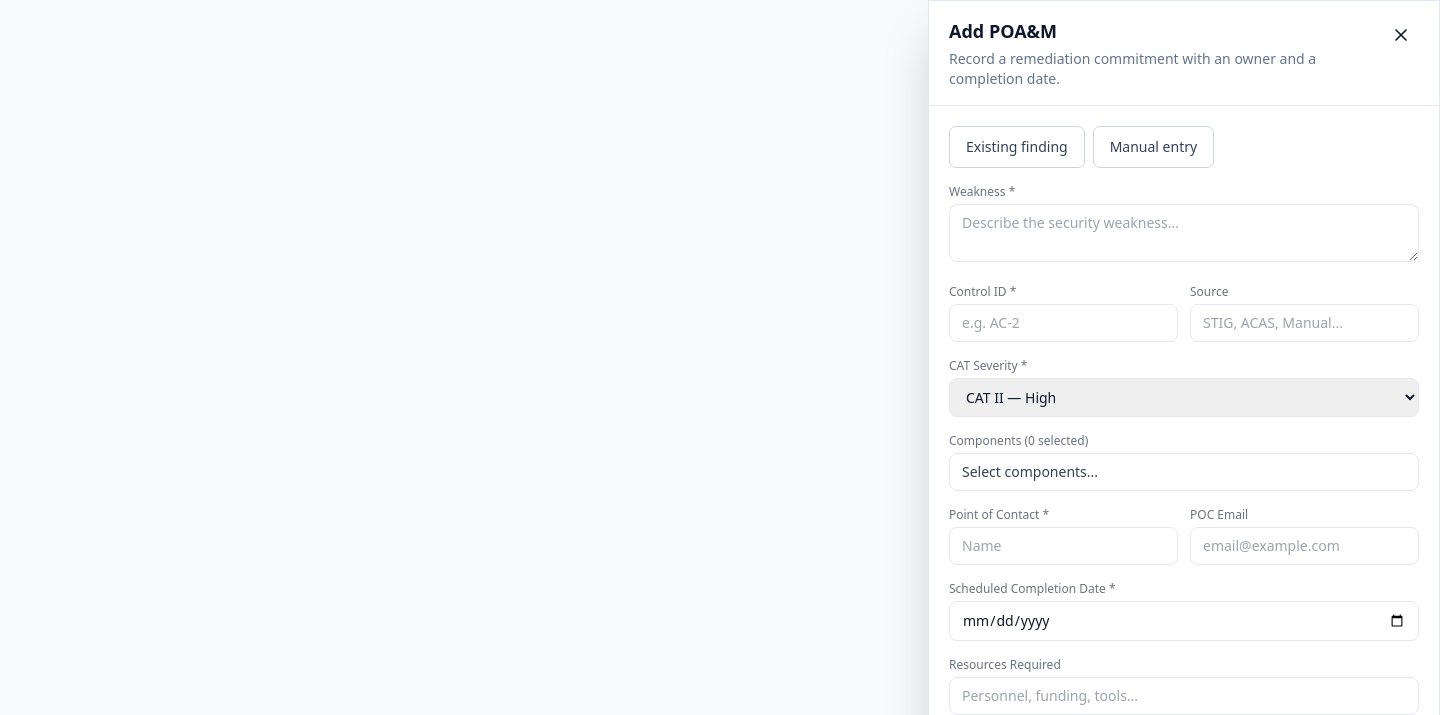
Manual POA&M form › does not mistake an indirect task relationship for a duplicate formal source record
Click the button "Existing finding" at {"x": 1017, "y": 147}, box [949,126,1085,168]
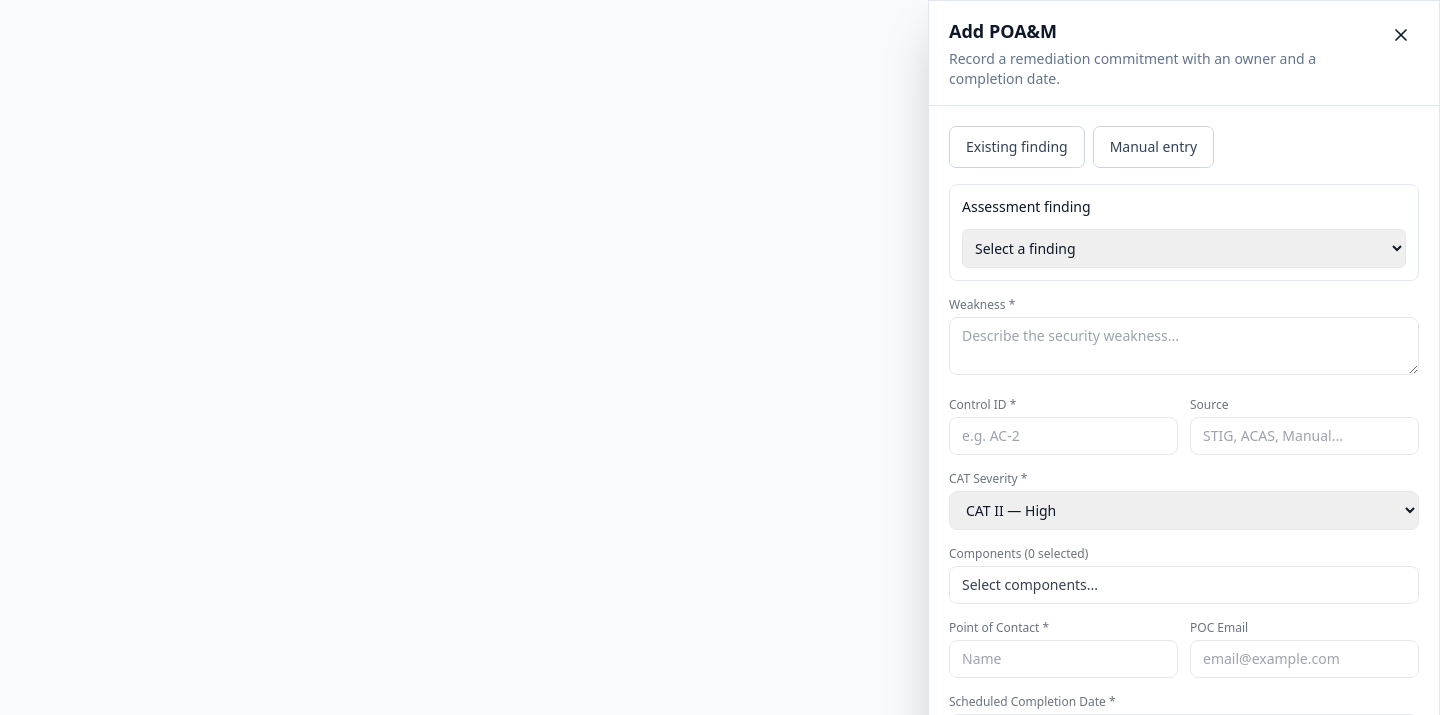
Select "AC-2 · Access review" in the dropdown labelled "Assessment finding" at {"x": 1184, "y": 248}, box [962,229,1406,268]
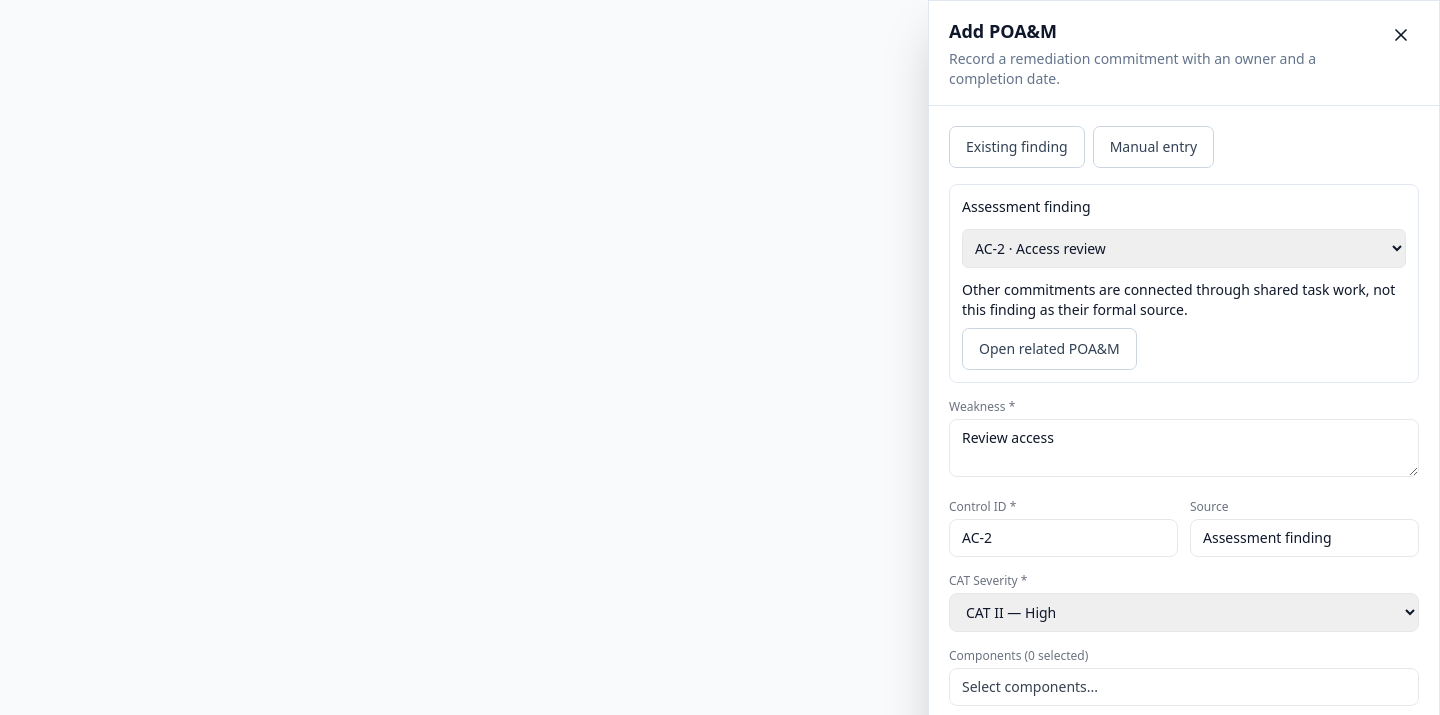
Expected: the button "Open related POA&M" is shown, [962,328,1137,370]
